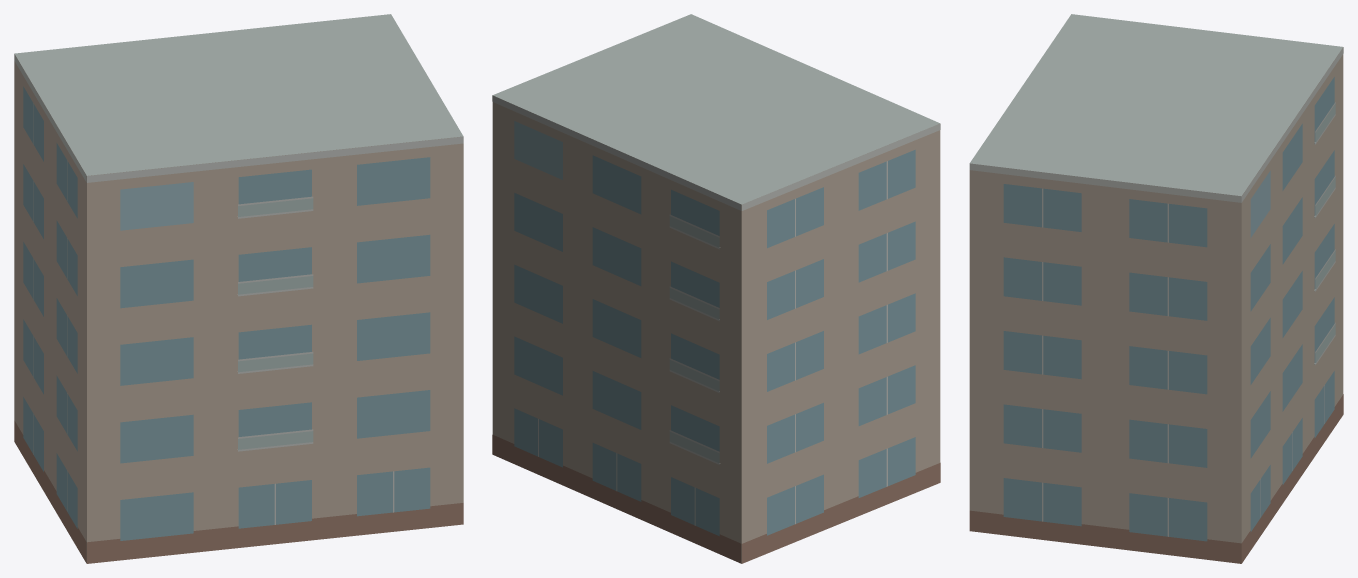
Rendered from survey-upis-32871842.glb.
3 renders of one model, left to right at view 1: azimuth 30°, elevation 25°; view 2: azimuth 150°, elevation 25°; view 3: azimuth 270°, elevation 25°, orthographic. The views are drawn at different scales.
Visible parts, largest first — view 1: survey-upis-32871842.tmp; view 2: survey-upis-32871842.tmp; view 3: survey-upis-32871842.tmp.
Boxes of the visible parts, x1=… form: survey-upis-32871842.tmp: x1=14, y1=14, x2=463, y2=563; survey-upis-32871842.tmp: x1=492, y1=14, x2=940, y2=563; survey-upis-32871842.tmp: x1=969, y1=14, x2=1343, y2=563.
Bounding box in the file's own units: 14.25 × 13.4 × 12.36.
